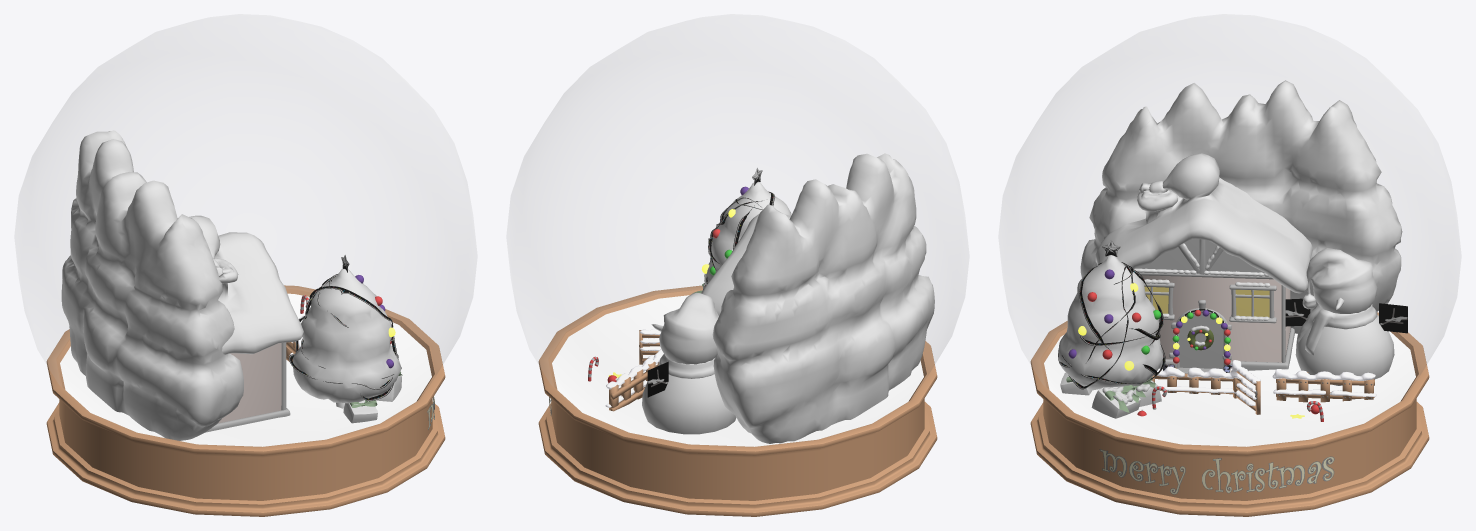
File: sharik.fbx
3 views of the same model, side by side, from view 1: azimuth 30°, elevation 25°; view 2: azimuth 150°, elevation 25°; view 3: azimuth 270°, elevation 25° (orthographic).
Visible parts, largest first — view 1: Sphere.001, Plane021.001, Vert.001, Cylinder04_snow001.001, Box024.002, Line029.001, Shape008.003; view 2: Sphere.001, Plane021.001, Vert.001, Box024.002, Cylinder04_snow001.001, Line029.001; view 3: Plane021.001, Sphere.001, Box024.002, Vert.001, Cylinder04_snow001.001, Vert.002, Shape008.003, Line029.001, Mball.006.
Boxes of the visible parts, <box> form: Sphere.001: <box>15,14,476,385</box>; Plane021.001: <box>61,130,303,440</box>; Vert.001: <box>46,285,445,516</box>; Cylinder04_snow001.001: <box>293,269,401,408</box>; Box024.002: <box>60,218,431,446</box>; Line029.001: <box>289,274,401,401</box>; Shape008.003: <box>343,371,402,423</box>; Sphere.001: <box>507,14,968,385</box>; Plane021.001: <box>701,153,934,443</box>; Vert.001: <box>538,285,937,516</box>; Box024.002: <box>552,293,923,446</box>; Cylinder04_snow001.001: <box>704,181,791,285</box>; Line029.001: <box>703,191,774,289</box>; Plane021.001: <box>1080,80,1402,373</box>; Sphere.001: <box>999,14,1460,385</box>; Box024.002: <box>1044,248,1415,446</box>; Vert.001: <box>1030,312,1429,516</box>; Cylinder04_snow001.001: <box>1058,255,1163,390</box>; Vert.002: <box>1099,449,1334,494</box>; Shape008.003: <box>1060,372,1161,418</box>; Line029.001: <box>1058,262,1165,389</box>; Mball.006: <box>1134,243,1270,320</box>.
Size of the model in its own units: 317 by 300 by 316.
